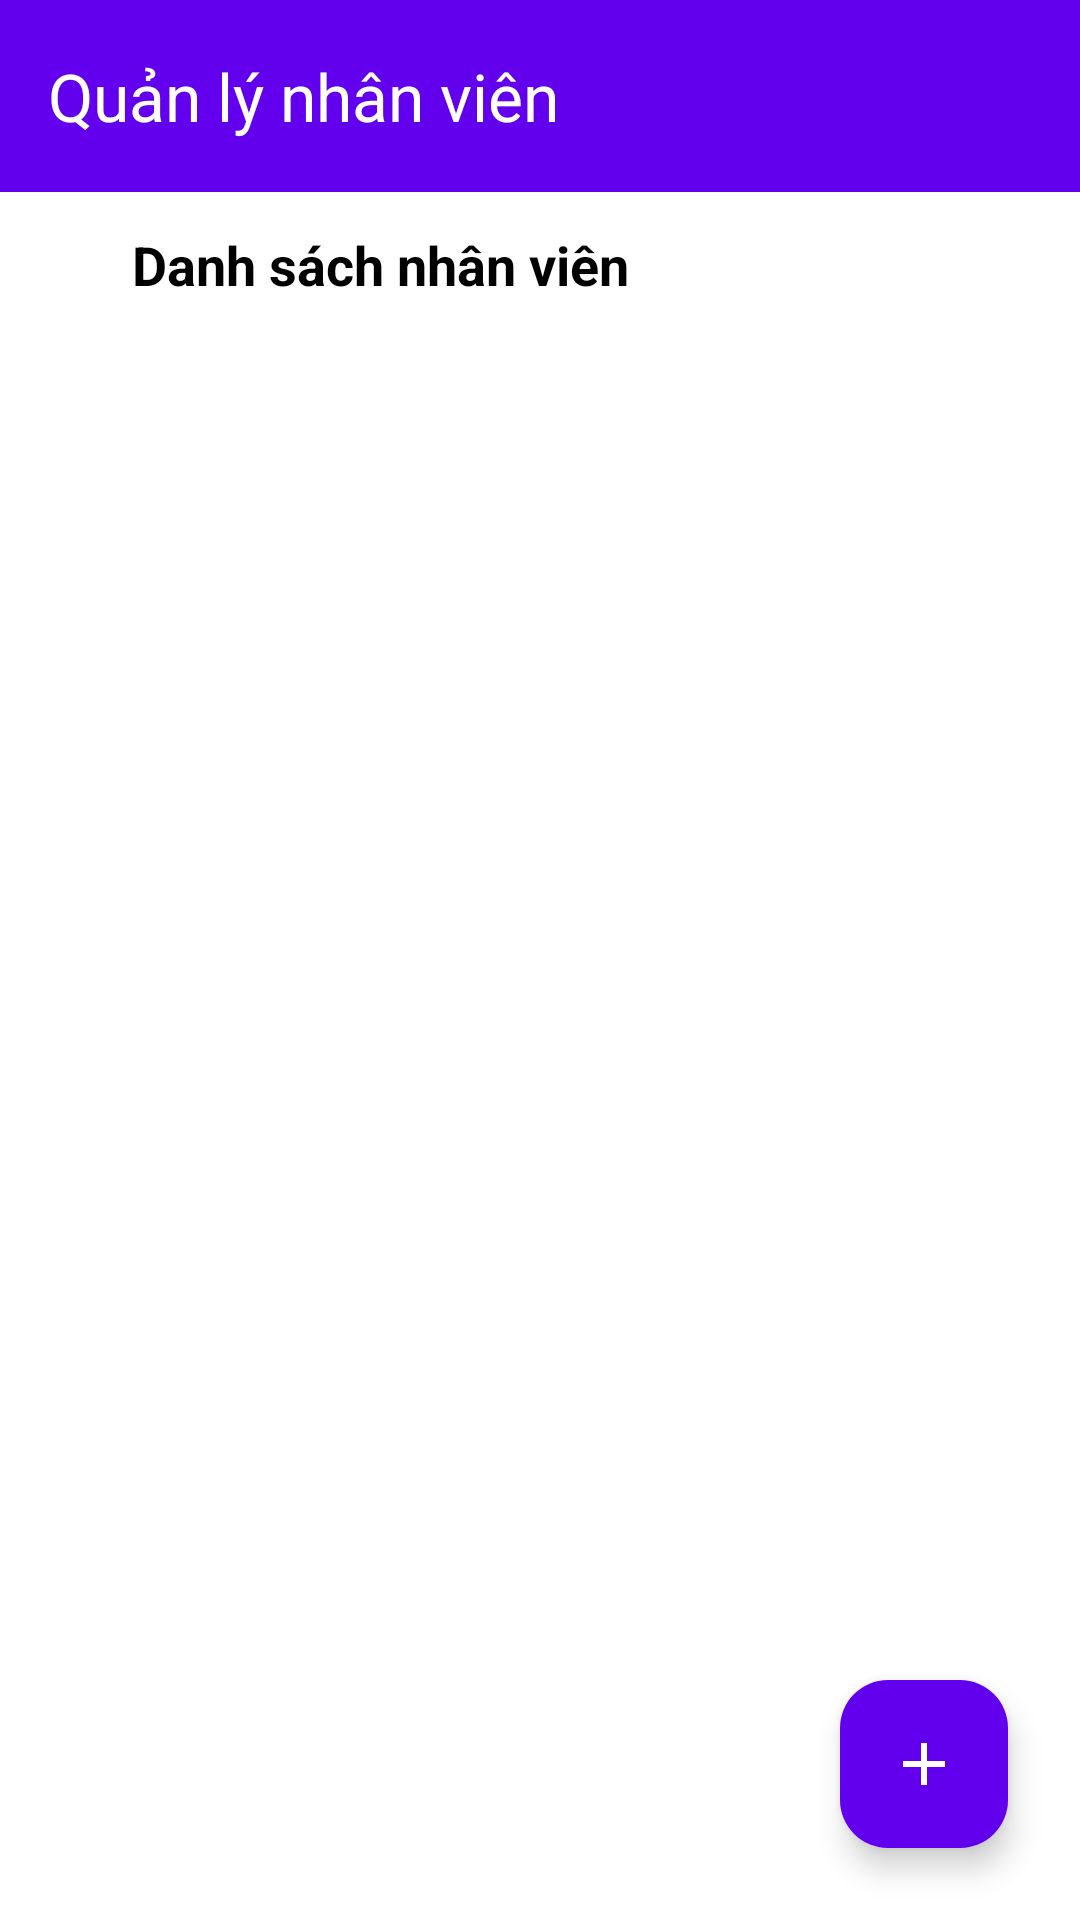

Named icons in this screenshot (1080px x 1920px) and their bounding boxes, {"x1": x1, "y1": y1, "x2": x2, "y2": y2}:
Thêm nhân viên: {"x1": 840, "y1": 1680, "x2": 1008, "y2": 1848}
